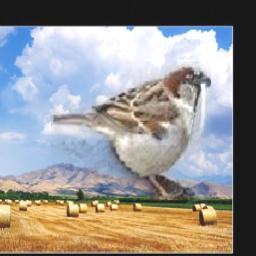Sparrow: (52, 61, 212, 200)
